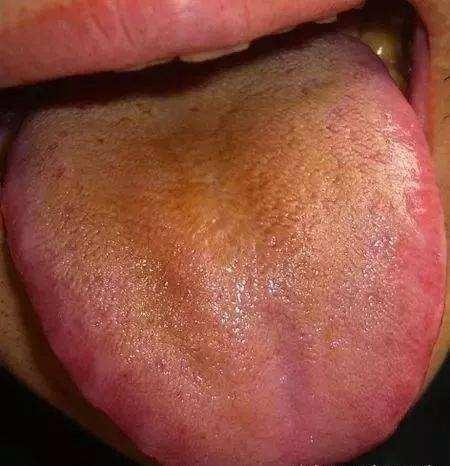chihenshe: (46, 331, 148, 445)
huangtaishe: (2, 32, 448, 466)
zishe: (2, 32, 448, 466)
